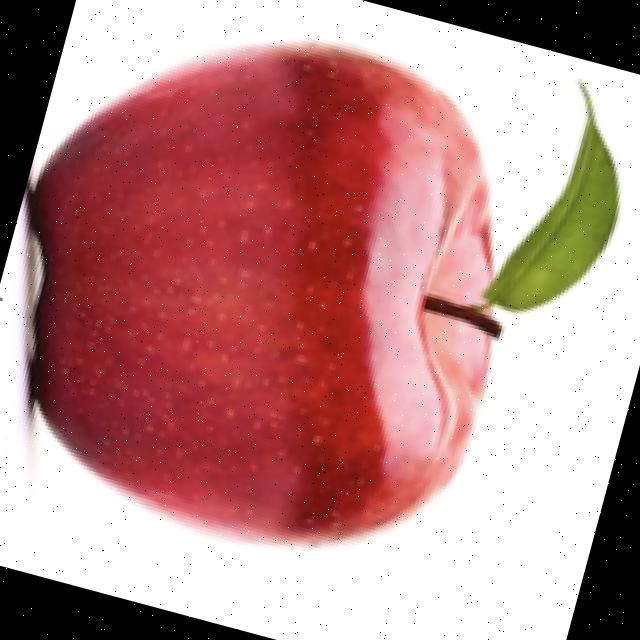apple: (13, 34, 625, 552)
